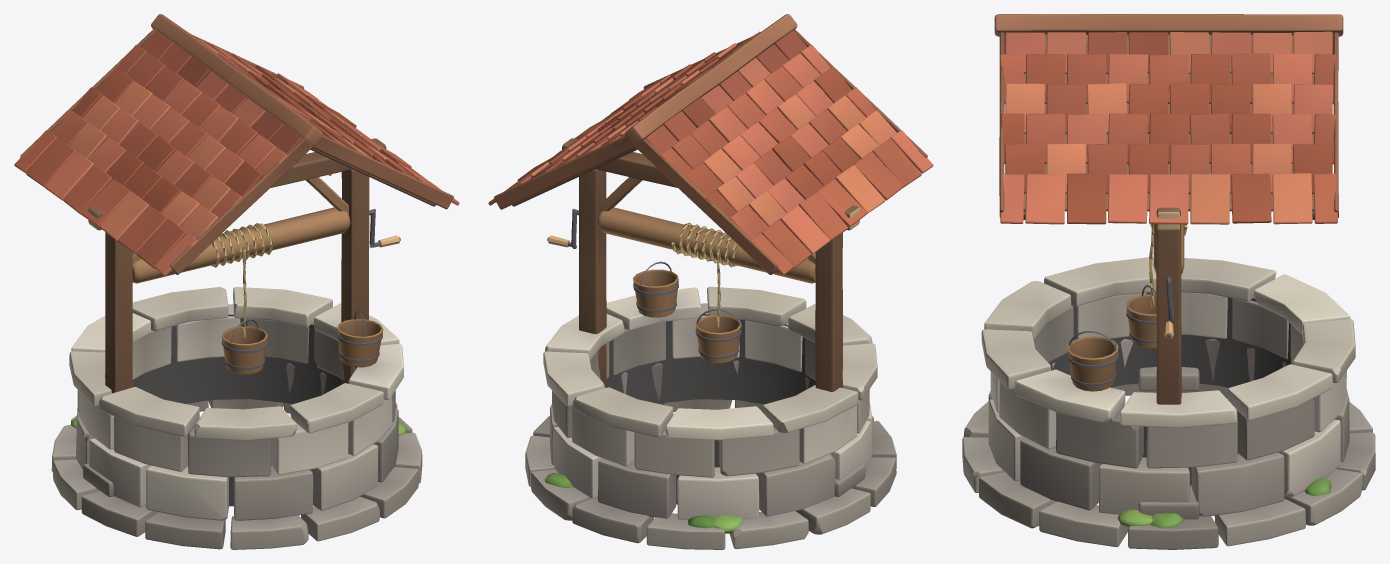
The model's file is pr_well.glb.
The picture shows the model from 3 angles, left to right: view 1: azimuth 30°, elevation 25°; view 2: azimuth 150°, elevation 25°; view 3: azimuth 270°, elevation 25°; orthographic projection. The views are drawn at different scales.
Visible parts, largest first — view 1: PR_well__body; view 2: PR_well__body; view 3: PR_well__body.
Part boxes in pixels (x1=…): PR_well__body: x1=14, y1=14, x2=459, y2=549; PR_well__body: x1=488, y1=14, x2=933, y2=549; PR_well__body: x1=962, y1=14, x2=1375, y2=549.
Bounding box in the file's own units: 3.43 × 4.08 × 3.39.
